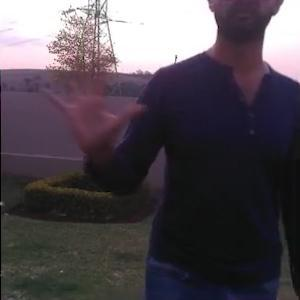follow_hand: (42, 53, 148, 159)
